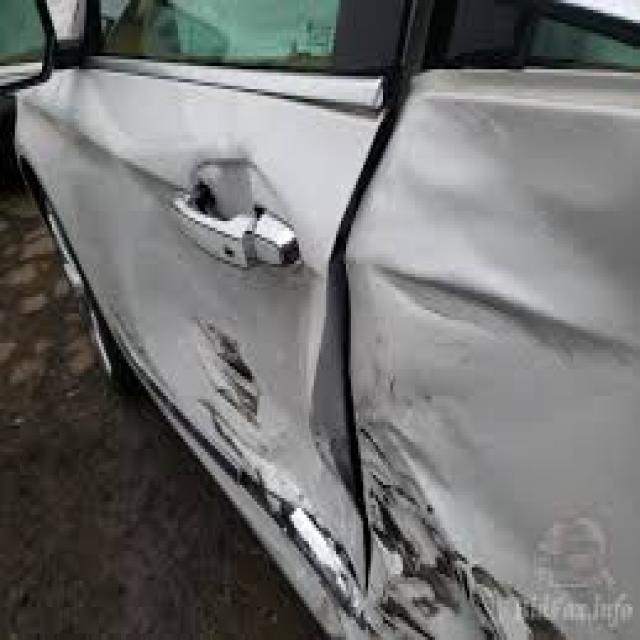damaged-door: (55, 2, 364, 620)
